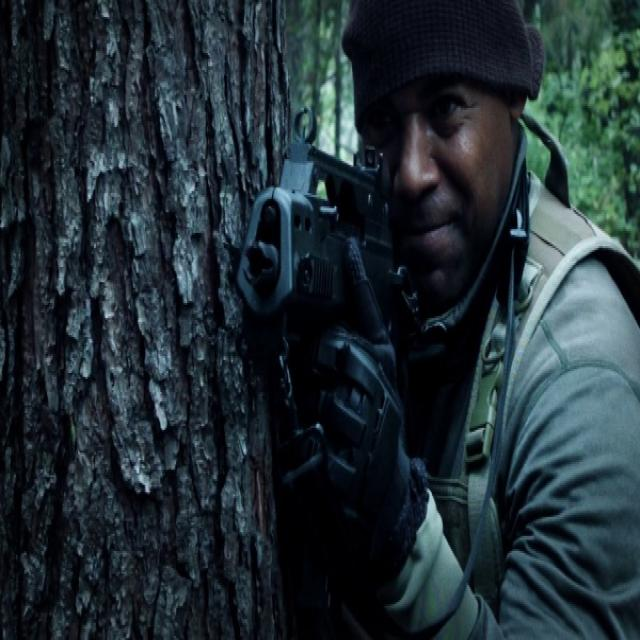rifle: (243, 107, 394, 381)
